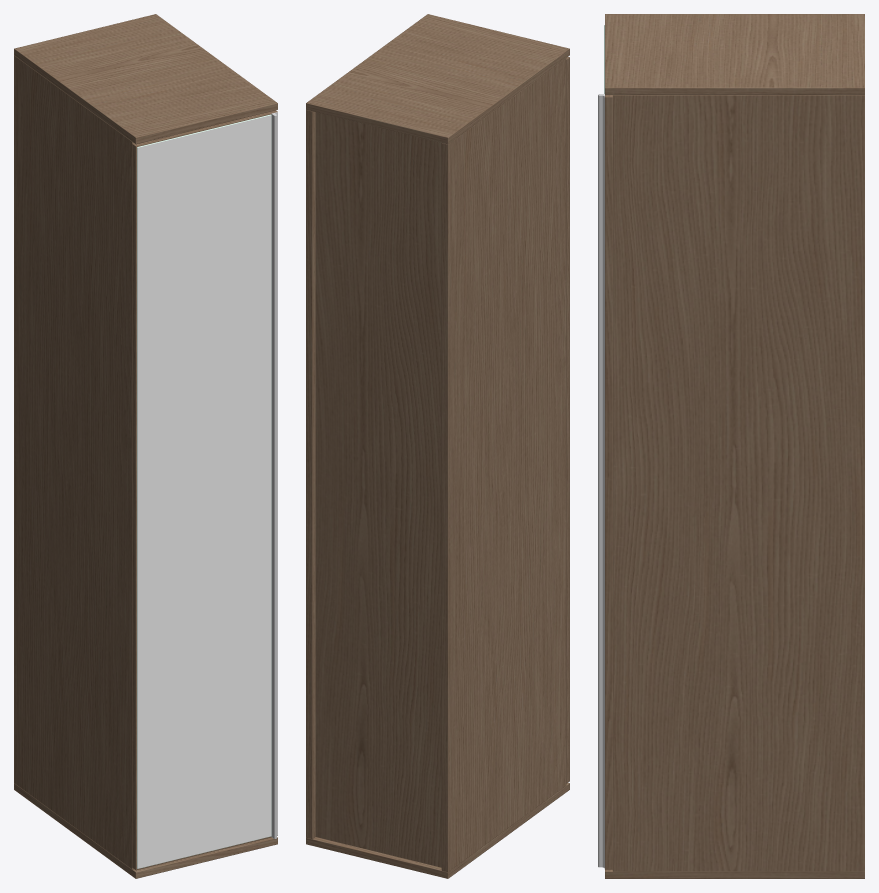
3 views of the same model, side by side, from view 1: azimuth 30°, elevation 25°; view 2: azimuth 150°, elevation 25°; view 3: azimuth 270°, elevation 25° (orthographic). The views are drawn at different scales.
Parts seen in each view (by area): view 1: mirror87413; view 2: mirror87413; view 3: mirror87413.
Part boxes in pixels (box(x1,y1,x2,y2)): mirror87413: box(14, 14, 277, 878); mirror87413: box(306, 14, 569, 878); mirror87413: box(598, 14, 864, 878).
Size of the model in its own units: 0.4 by 2 by 0.61.
1 material, 1 textured.
